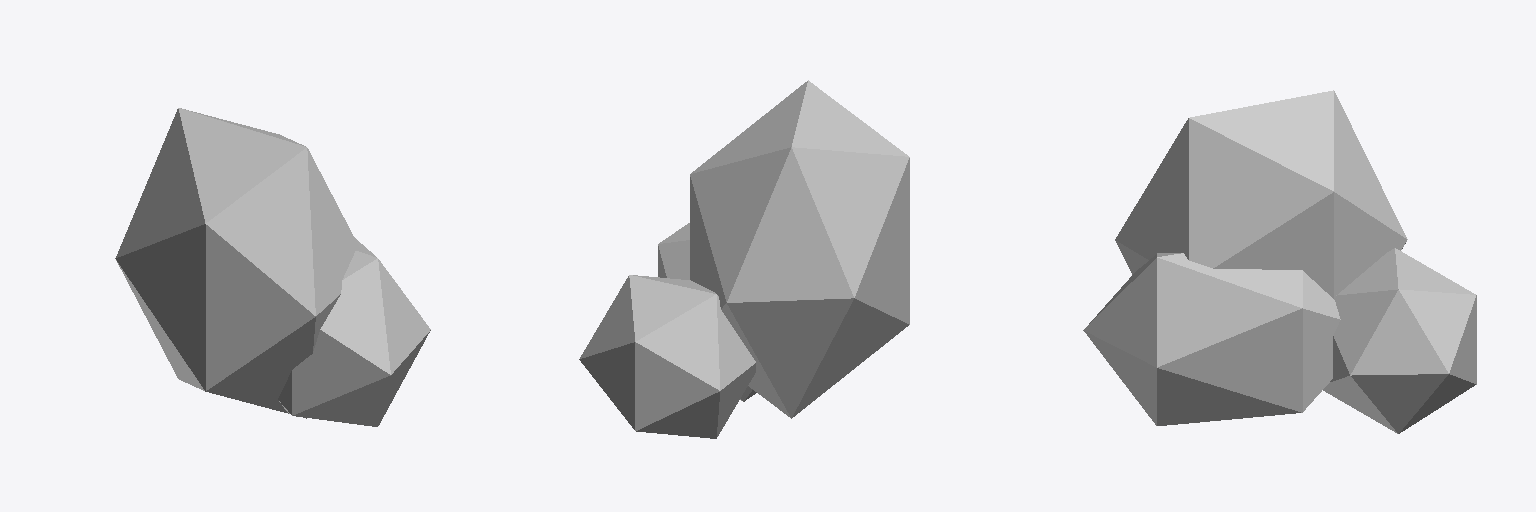
File: Arbusto.obj
3 views of the same model, side by side, from view 1: azimuth 30°, elevation 25°; view 2: azimuth 150°, elevation 25°; view 3: azimuth 270°, elevation 25° (orthographic).
Parts seen in each view (by area): view 1: arbusto; view 2: arbusto; view 3: arbusto.
Part boxes in pixels (bbox=[...]): arbusto: bbox=[115, 108, 430, 426]; arbusto: bbox=[579, 80, 909, 438]; arbusto: bbox=[1083, 90, 1476, 433].
Size of the model in its own units: 1.91 by 2.27 by 2.87.